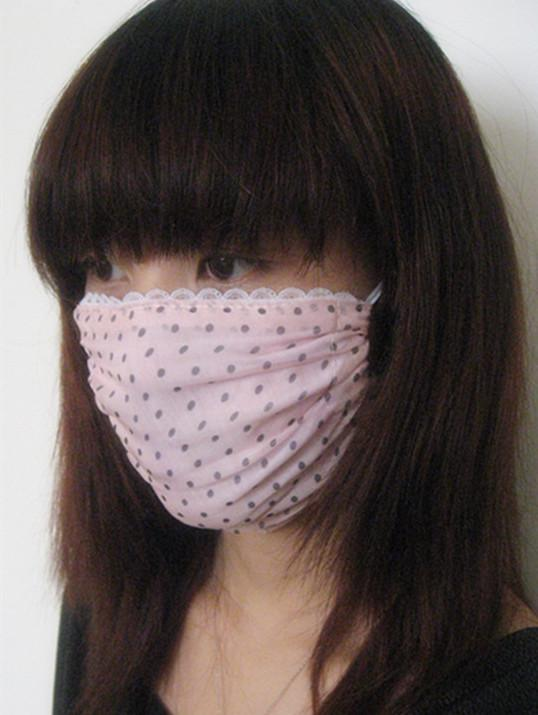OK: (65, 200, 394, 529)
